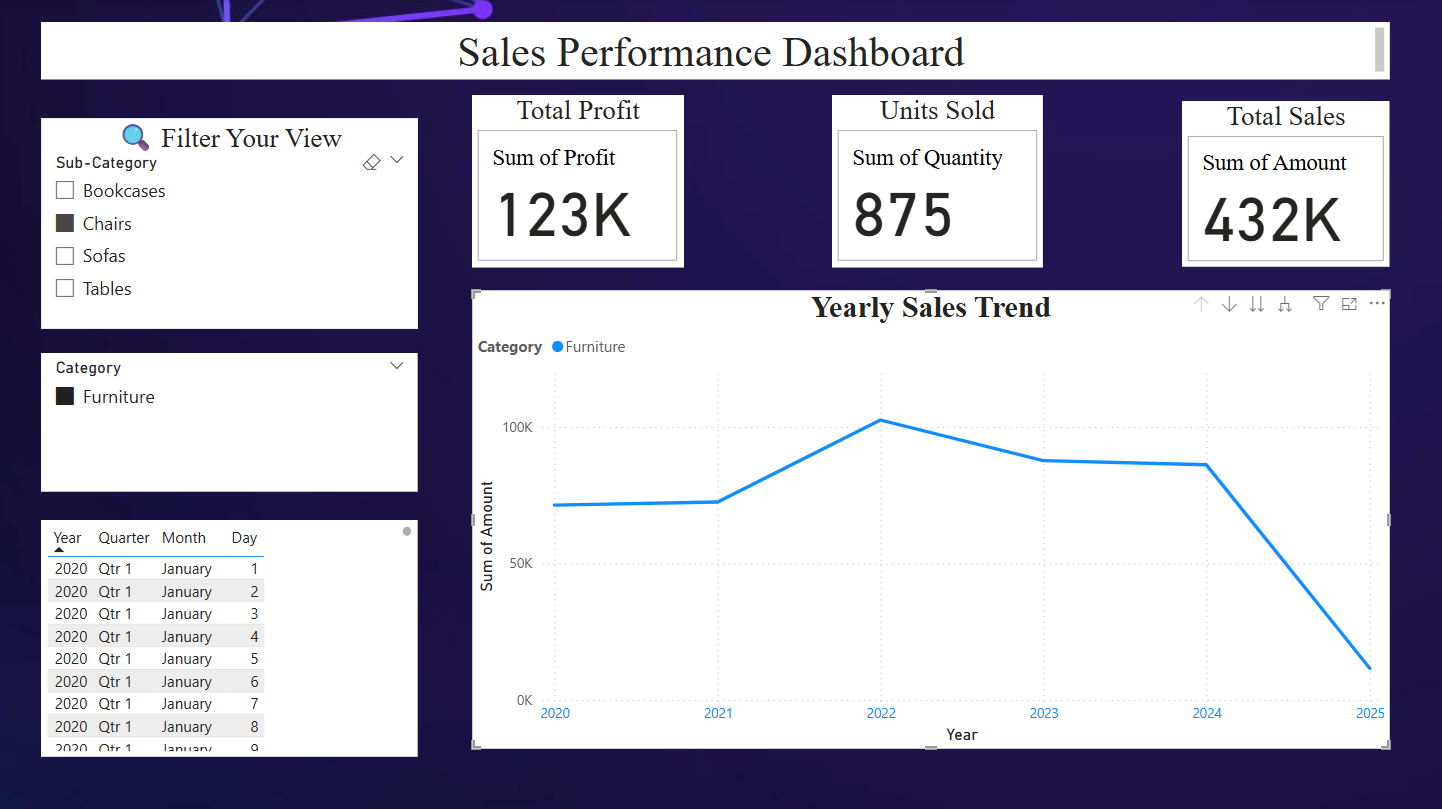

Layout of this report page (visuals, bound fields, positions):
{"tool":"powerbi","page":{"name":"Page 1","canvas":[1280,720],"ordinal":0},"visuals":[{"type":"cardVisual","title":"Total Sales","fields":{"Data":["Sum(Sales_Dataset[1].Amount)"]},"box":[1049,90.4,184.4,147.2],"z":0},{"type":"cardVisual","title":"Total Profit","fields":{"Data":["Sum(Sales_Dataset[1].Profit)"]},"box":[419.4,85.1,188,152.5],"z":1000},{"type":"cardVisual","title":"Units Sold","fields":{"Data":["Sum(Sales_Dataset[1].Quantity)"]},"box":[738.6,85.1,187.1,152.5],"z":2000},{"type":"slicer","title":"🔍 Filter Your View","fields":{"Values":["Sales_Dataset[1].Sub-Category"]},"box":[37.2,105.5,334.3,187.1],"z":3000},{"type":"slicer","fields":{"Values":["Sales_Dataset[1].Category"]},"box":[37.2,313.9,334.3,123.3],"z":4000},{"type":"tableEx","fields":{"Values":["Sales_Dataset[1].Order Date.Variation.Date Hierarchy.Year","Sales_Dataset[1].Order Date.Variation.Date Hierarchy.Quarter","Sales_Dataset[1].Order Date.Variation.Date Hierarchy.Month","Sales_Dataset[1].Order Date.Variation.Date Hierarchy.Day"]},"box":[37.2,462,334.3,210.1],"z":5000},{"type":"lineChart","title":"Yearly Sales Trend","fields":{"Category":["Sales_Dataset[1].Order Date.Variation.Date Hierarchy.Year","Sales_Dataset[1].Order Date.Variation.Date Hierarchy.Quarter","Sales_Dataset[1].Order Date.Variation.Date Hierarchy.Month","Sales_Dataset[1].Order Date.Variation.Date Hierarchy.Day"],"Series":["Sales_Dataset[1].Category"],"Y":["Sum(Sales_Dataset[1].Amount)"]},"box":[419.4,265.1,814,407],"z":6000},{"type":"textbox","box":[37.2,20.4,1196.2,50.5],"z":7000}]}

Visuals, with their boxes in screenshot pixels (x1, y1, x2, y2), scaled from the page's 1280x720 canvas onto the 1442x809 screenshot:
"Total Sales" cardVisual: bbox=(1182, 102, 1390, 267)
"Total Profit" cardVisual: bbox=(472, 96, 684, 267)
"Units Sold" cardVisual: bbox=(832, 96, 1043, 267)
"🔍 Filter Your View" slicer: bbox=(42, 119, 419, 329)
slicer - Sales_Dataset[1].Category: bbox=(42, 353, 419, 491)
tableEx - Sales_Dataset[1].Order Date.Variation.Date Hierarchy.Year x Sales_Dataset[1].Order Date.Variation.Date Hierarchy.Quarter: bbox=(42, 519, 419, 755)
"Yearly Sales Trend" lineChart: bbox=(472, 298, 1390, 755)
textbox: bbox=(42, 23, 1390, 80)
